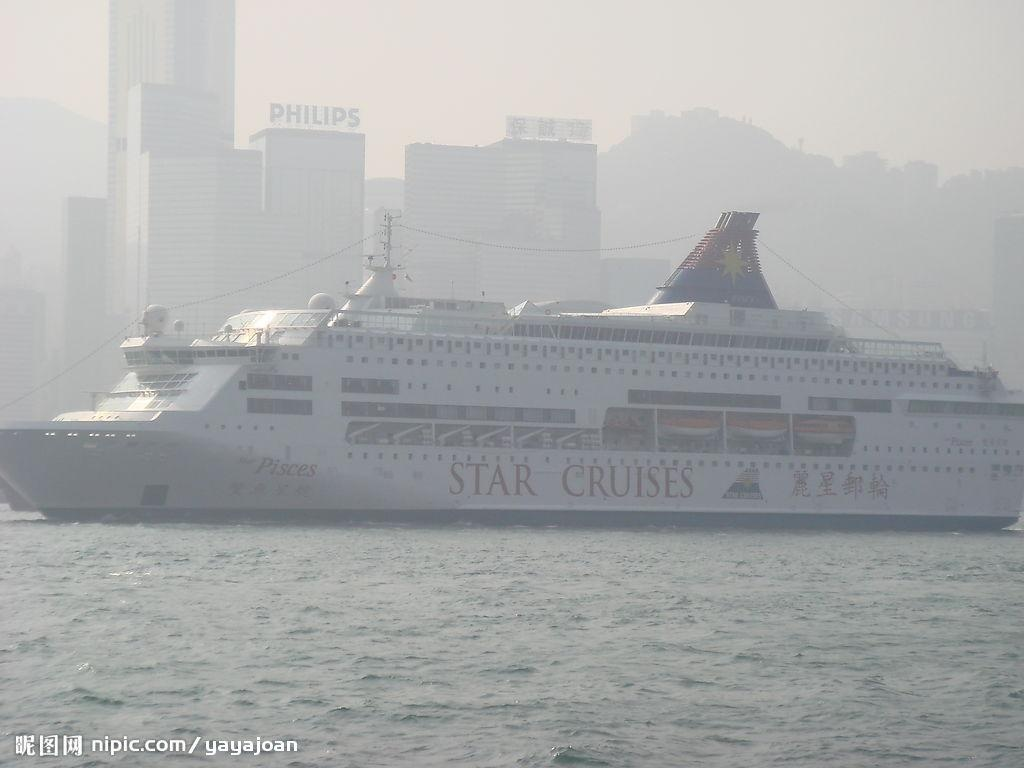youlun: (11, 190, 1024, 524)
